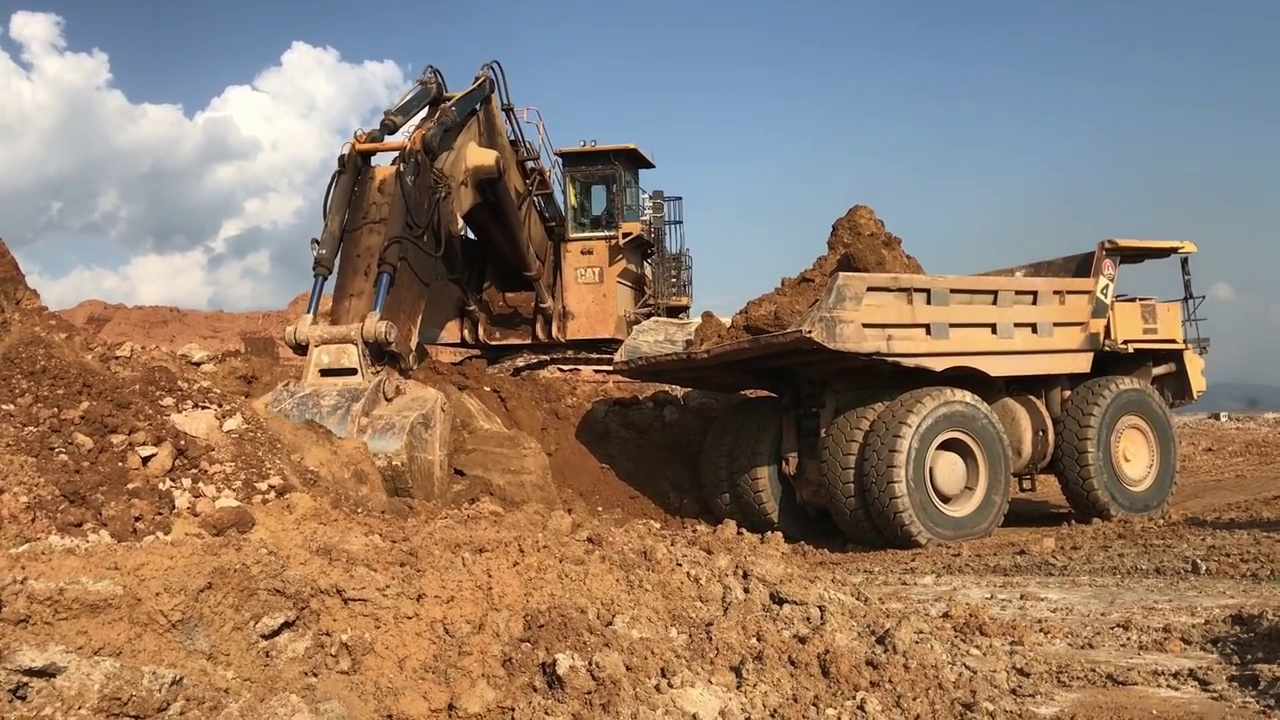dumper: (613, 238, 1211, 545)
excavator: (267, 63, 697, 493)
